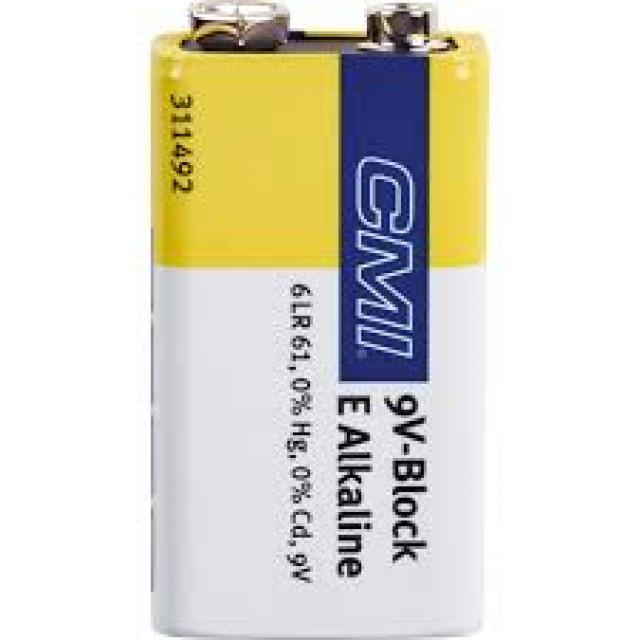battery: (151, 0, 486, 640)
